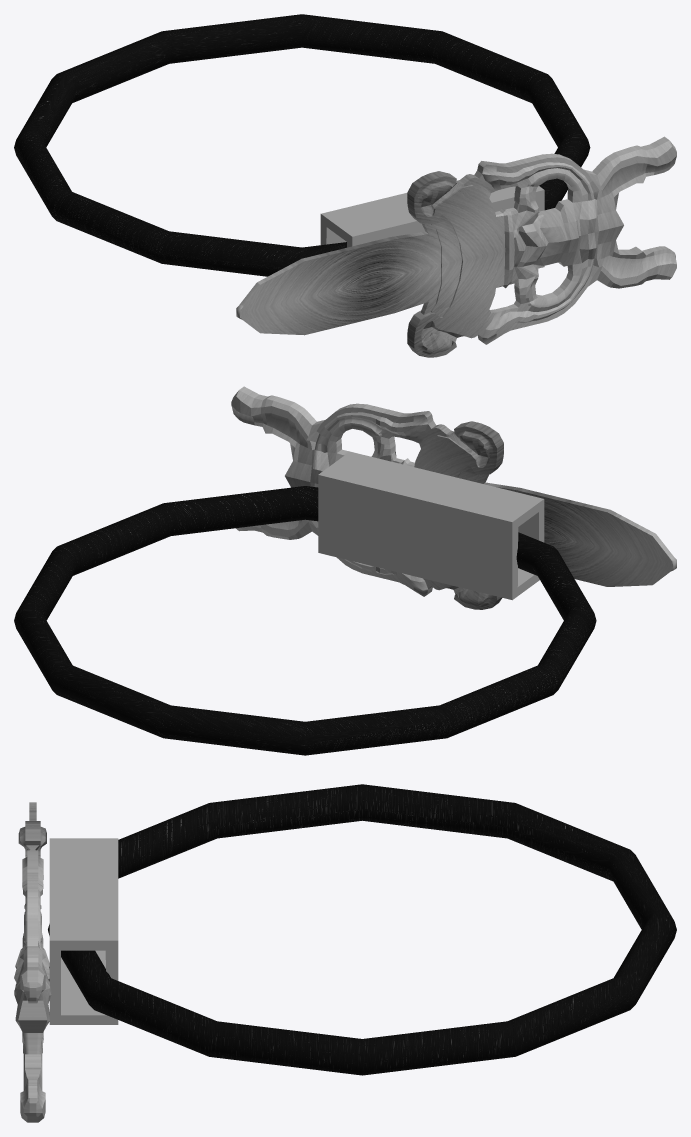
Rendered from Silverbracklet.fbx.
3 views of the same model, one above another, from view 1: azimuth 30°, elevation 25°; view 2: azimuth 150°, elevation 25°; view 3: azimuth 270°, elevation 25° (orthographic). The views are drawn at different scales.
Parts seen in each view (by area): view 1: sword, pTorus1, pCube1; view 2: pTorus1, sword, pCube1; view 3: pTorus1, pCube1, sword.
Part boxes in pixels (box(x1,y1,x2,y2)): sword: box(236, 136, 676, 357); pTorus1: box(14, 14, 590, 276); pCube1: box(320, 180, 544, 268); pTorus1: box(14, 486, 596, 755); sword: box(231, 386, 676, 609); pCube1: box(318, 451, 544, 600); pTorus1: box(48, 784, 676, 1075); pCube1: box(49, 838, 118, 1024); sword: box(14, 802, 51, 1122).
Size of the model in its own units: 14.77 by 5.05 by 15.4.
